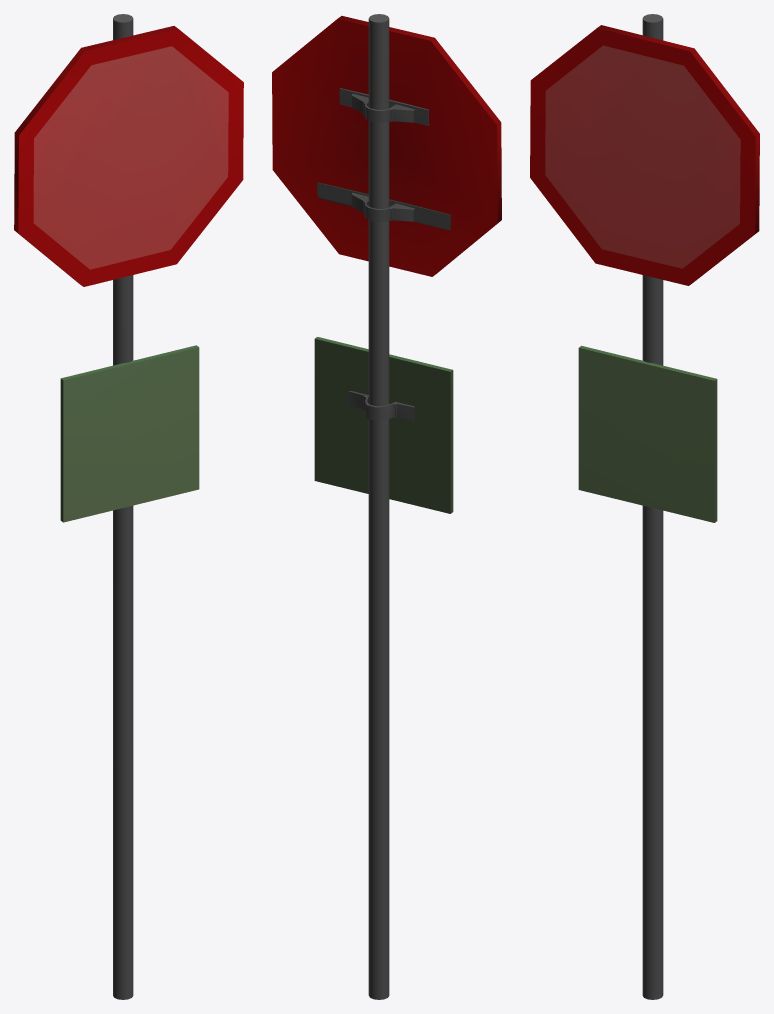
File: HexTrafficSign_Sign.fbx
The picture shows the model from 3 angles, left to right: view 1: azimuth 30°, elevation 25°; view 2: azimuth 150°, elevation 25°; view 3: azimuth 330°, elevation 25°; orthographic projection.
Visible parts, largest first — view 1: HexTrafficSign_Sign; view 2: HexTrafficSign_Sign; view 3: HexTrafficSign_Sign.
Boxes of the visible parts, <box> form: HexTrafficSign_Sign: <box>14,14,243,999</box>; HexTrafficSign_Sign: <box>272,14,501,999</box>; HexTrafficSign_Sign: <box>530,14,759,999</box>.
Size of the model in its own units: 60.61 by 251 by 7.12.
